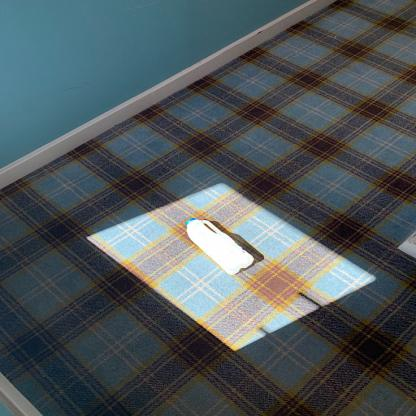trash: (180, 216, 258, 277)
